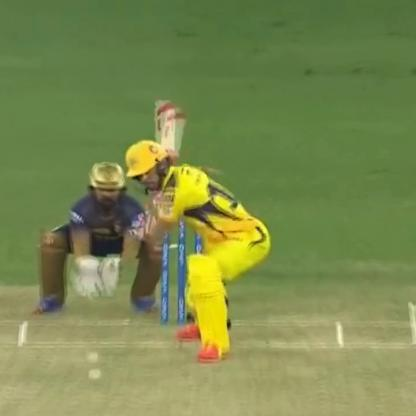ball: (82, 366, 104, 385), (84, 346, 101, 363)
bat: (150, 88, 185, 176)
pitch: (0, 308, 415, 415)
